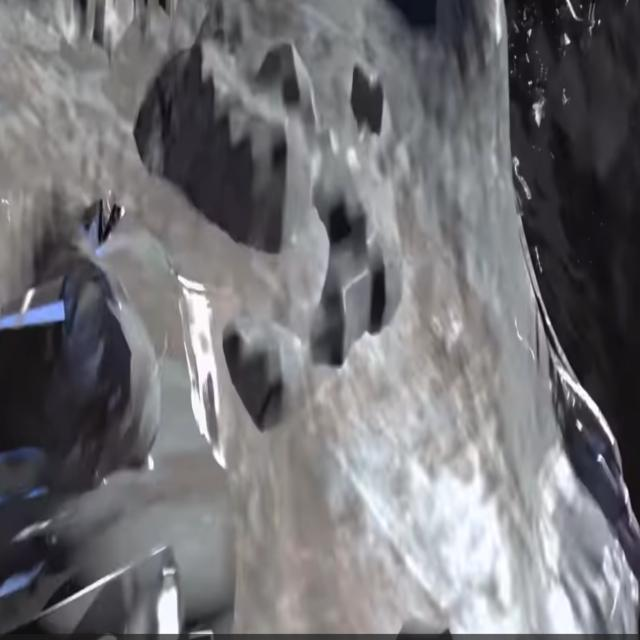large_debris: (1, 0, 640, 640), (0, 206, 71, 590)
